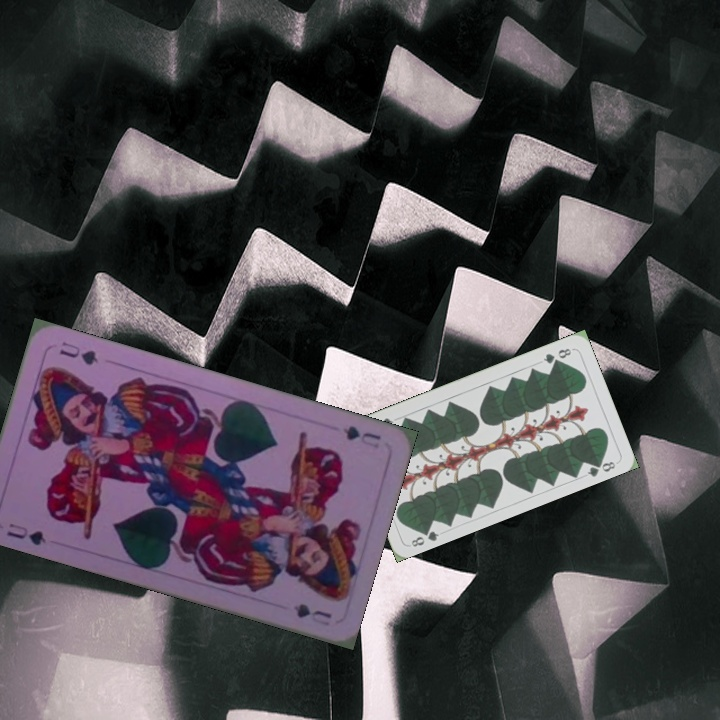G8: (407, 523, 442, 550), (539, 344, 574, 366)
GU: (2, 519, 49, 548), (339, 421, 384, 451)
